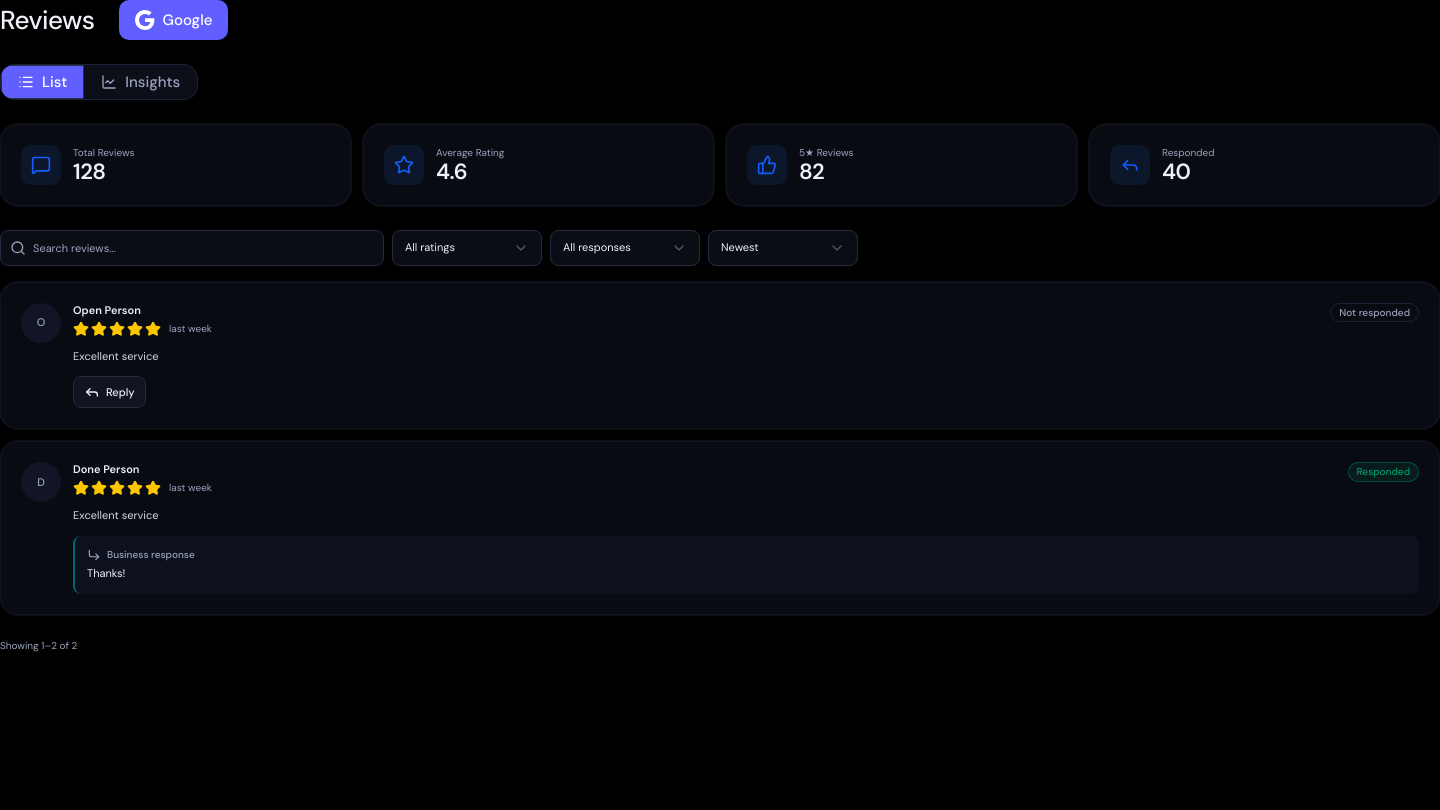
Test: Business Profile Reviews page › reply flow › shows a safe message (never the raw server text) and a retry label for a retryable failure
The width and height of the screenshot is (1440, 810).
Click the button with aria-label "Reply to Open Person" at (109, 392), box [73,376,146,408]
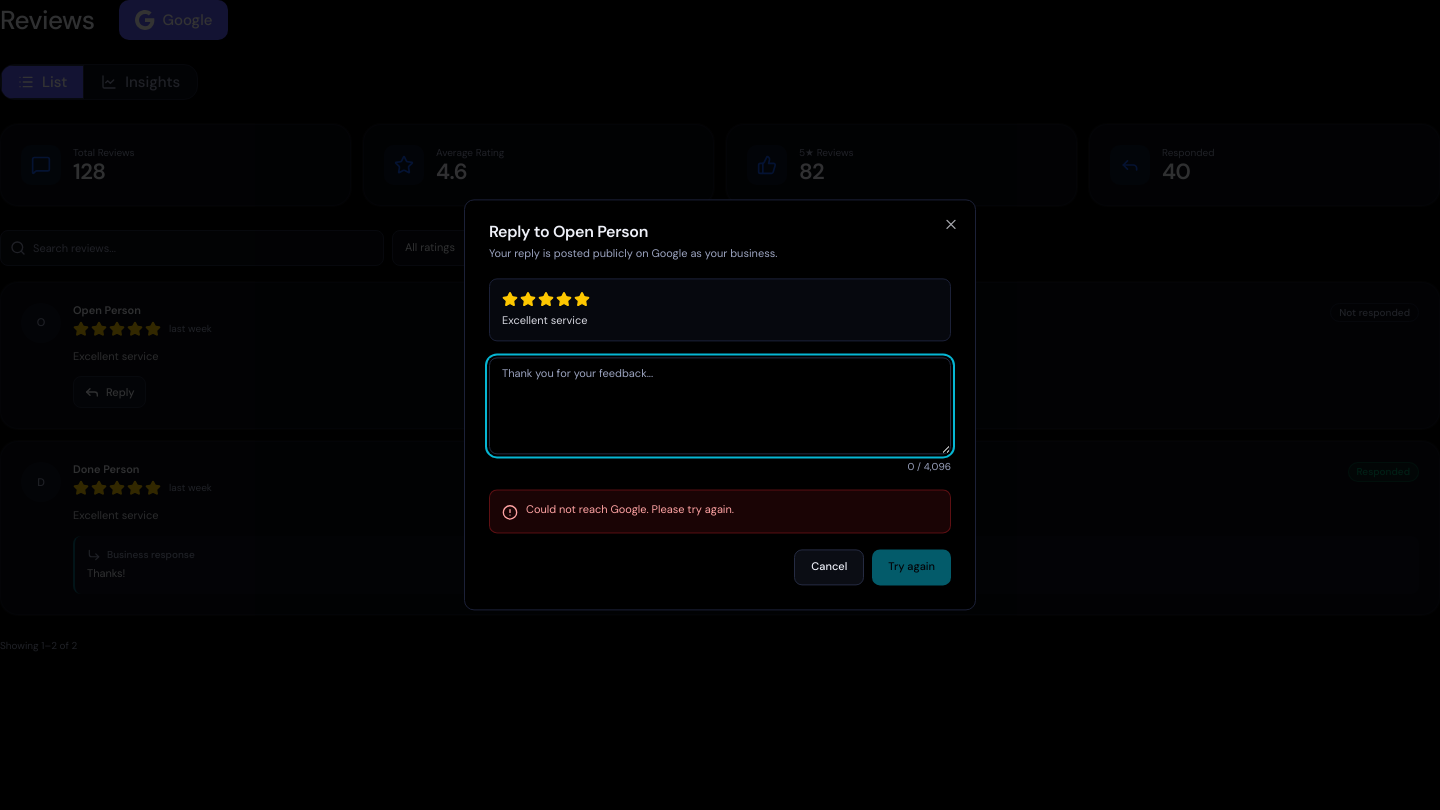
Type "Hello" into the text box named "Your reply to Open Person" at (720, 406), box [489,358,951,454]
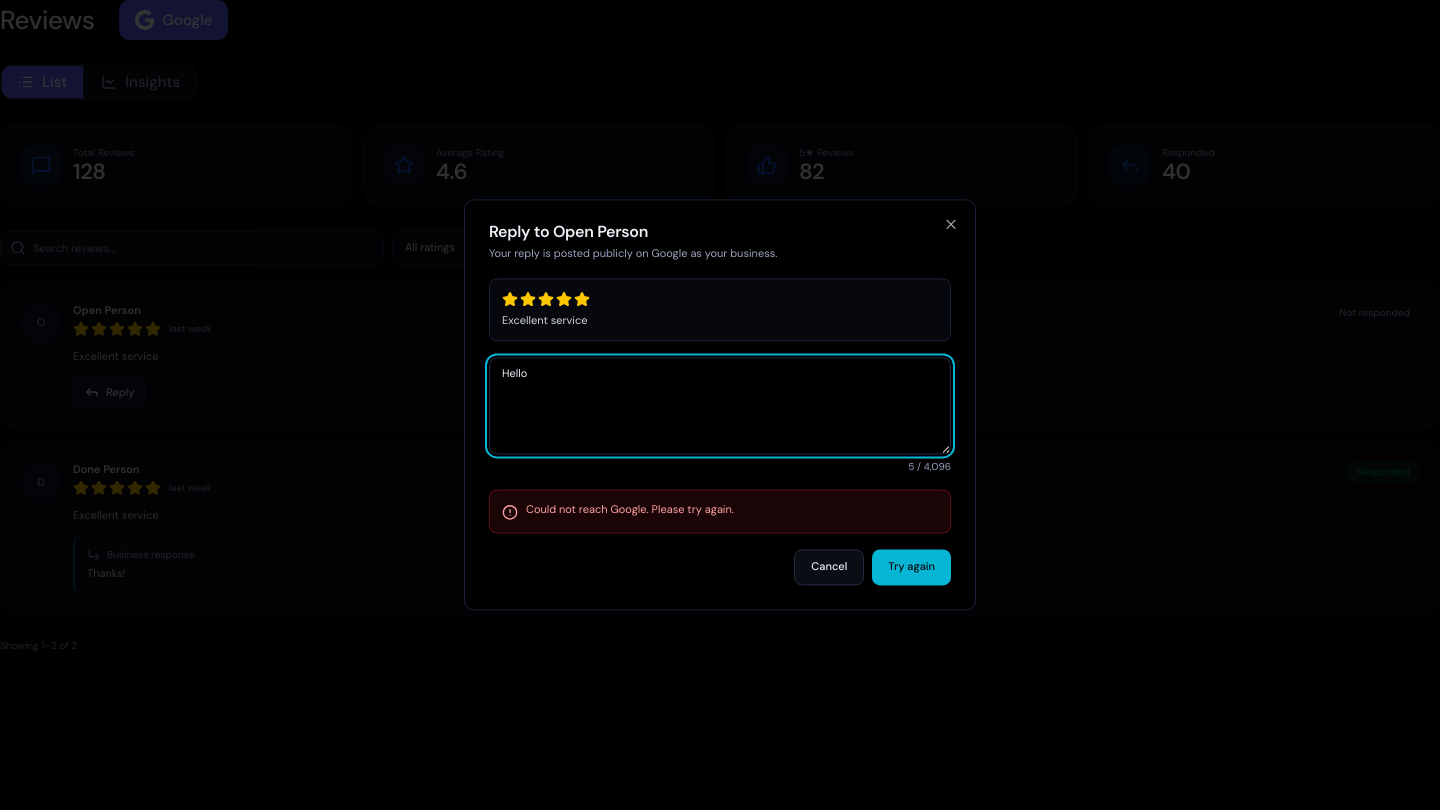
Check: the message reads "Could not reach Google. Please try again.", box [526,503,734,517]
Check: the button "Try again" is enabled, box [872,550,951,586]
